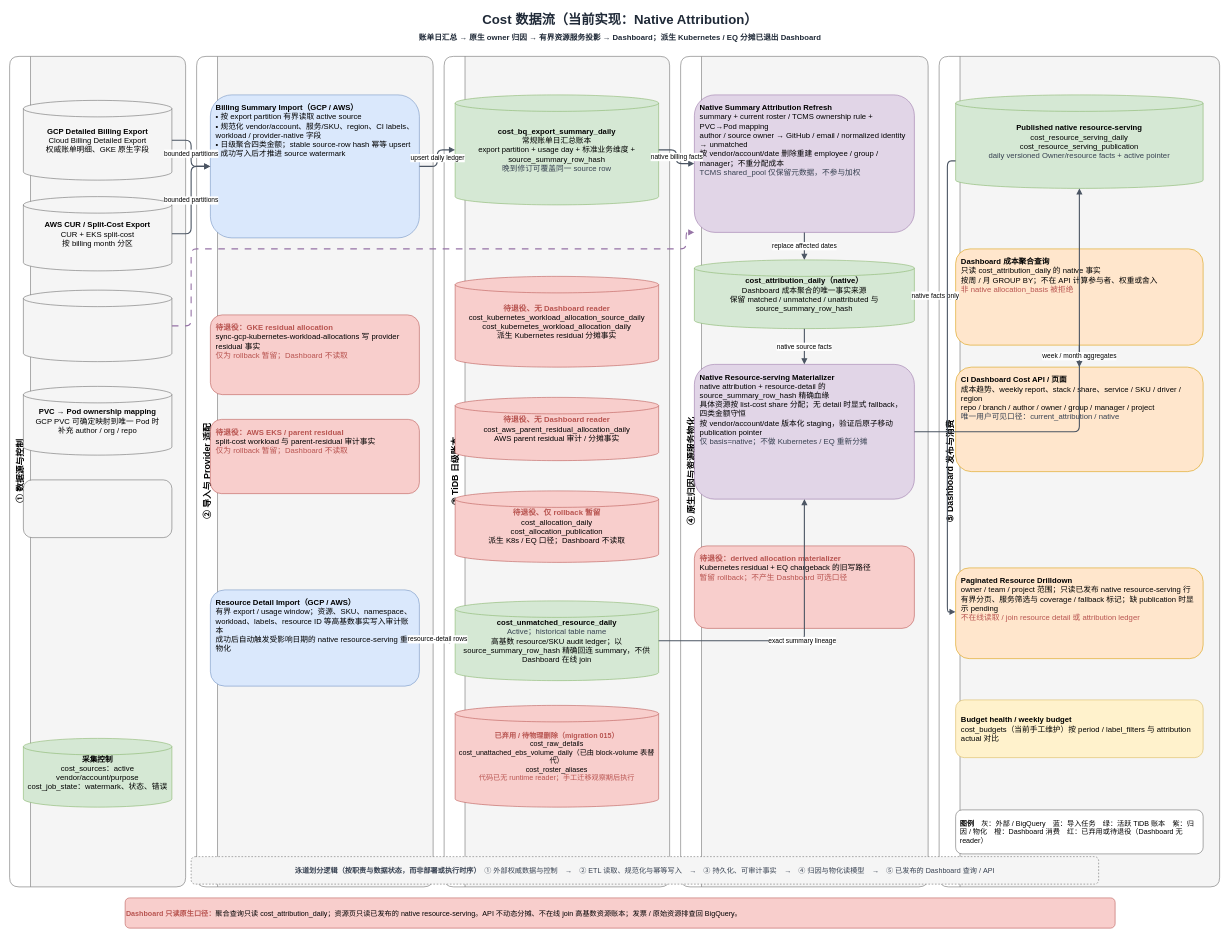
This 1229x938 diagram has some shape labels left out. The centre of each missing label's shape, as x and y in pixels:
"BigQuery 保留的职责 发票级原始明细追溯 高基数资源调查" belongs at [97,508].
"Current Roster + TCMS employee / group / manager 确定性 owner / tag ownership 规则" belongs at [97,326].
